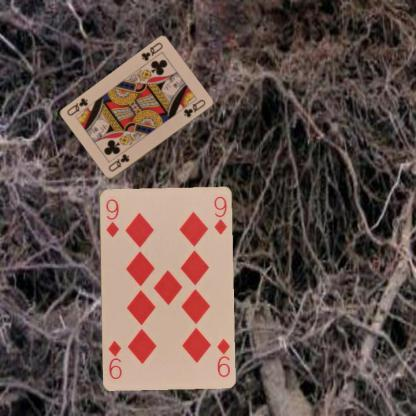9d: (102, 196, 119, 238), (214, 336, 231, 378)
Qc: (139, 40, 164, 62), (106, 152, 130, 174)
